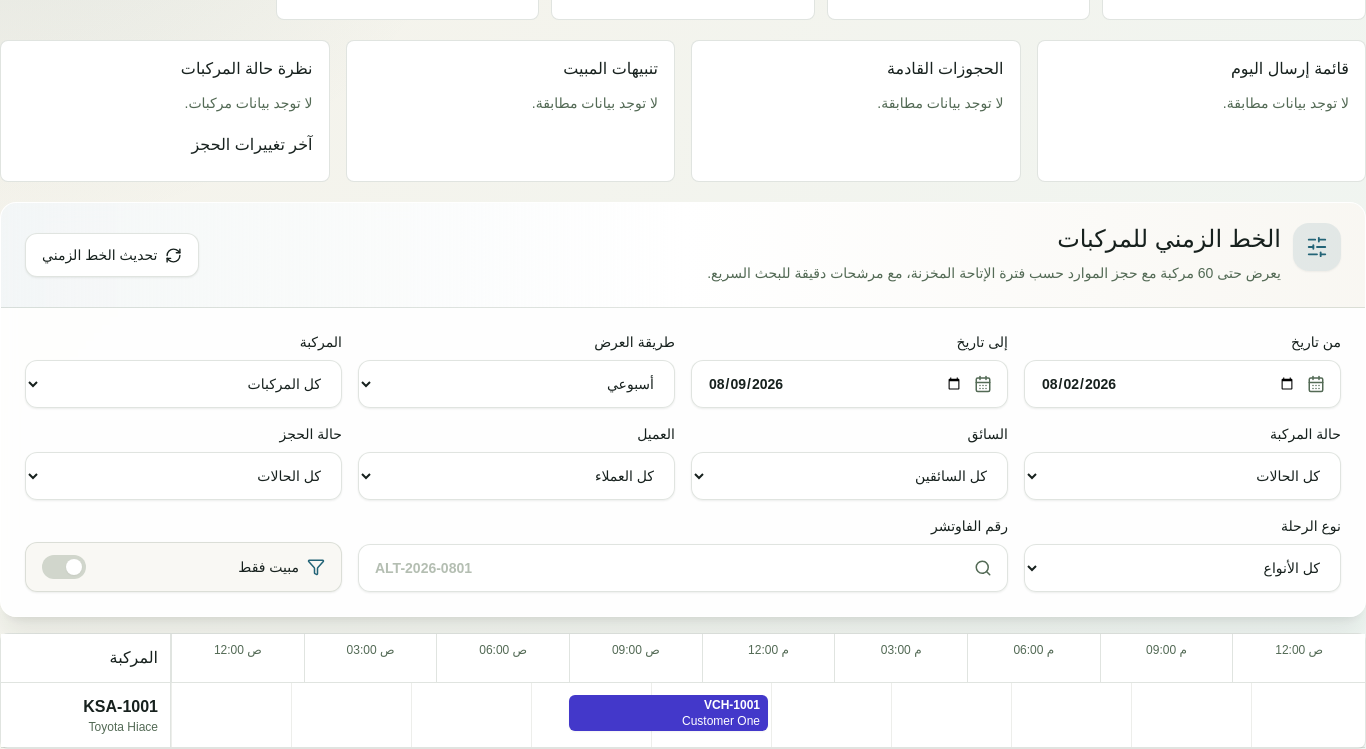
Scenario: DashboardPage › renders timeline bookings and opens booking details
(page scrolled)
Expected: the text "KSA-1001" is shown, [83,698,158,715]
What coordinates should you click on to do the following:
click the button "VCH-1001 Customer One"
I would click on:
 (668, 713)
Its box is [569,695,768,731].
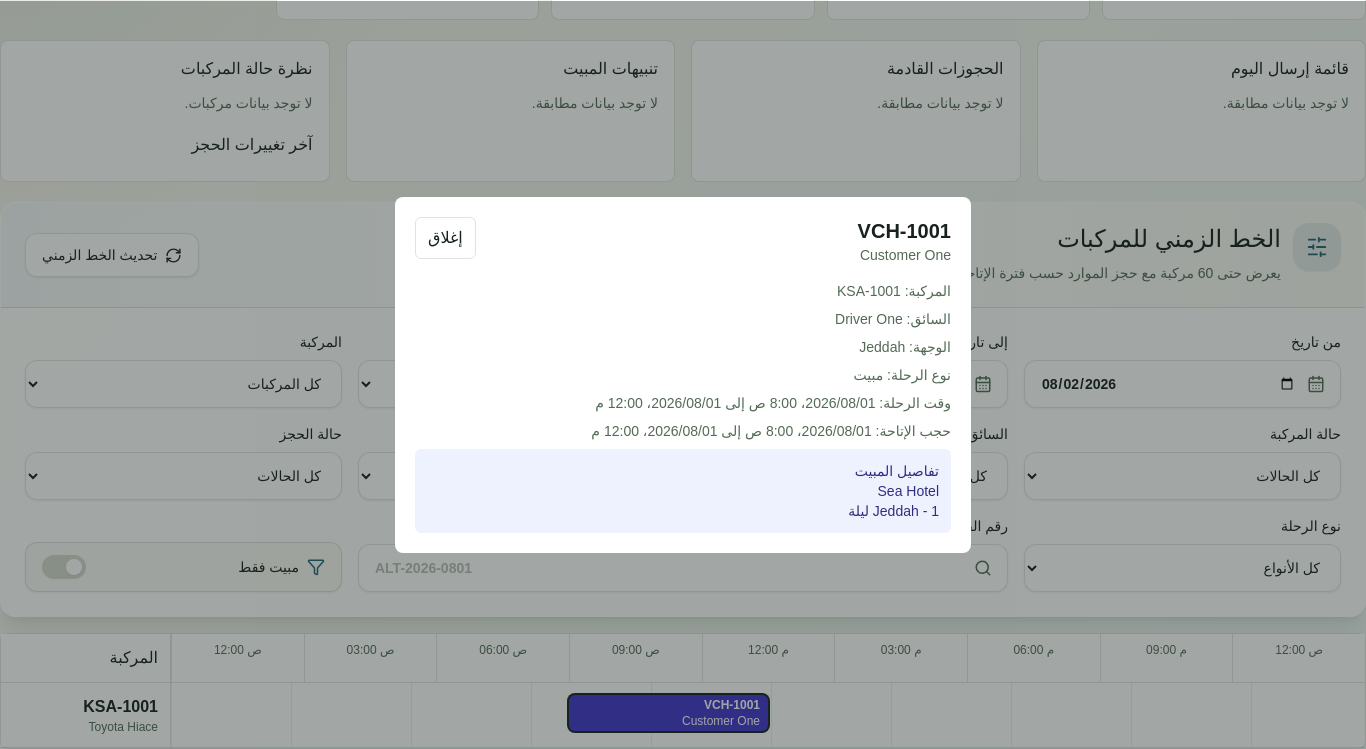
Result: the text "Sea Hotel" is shown at [878,483,939,499]
